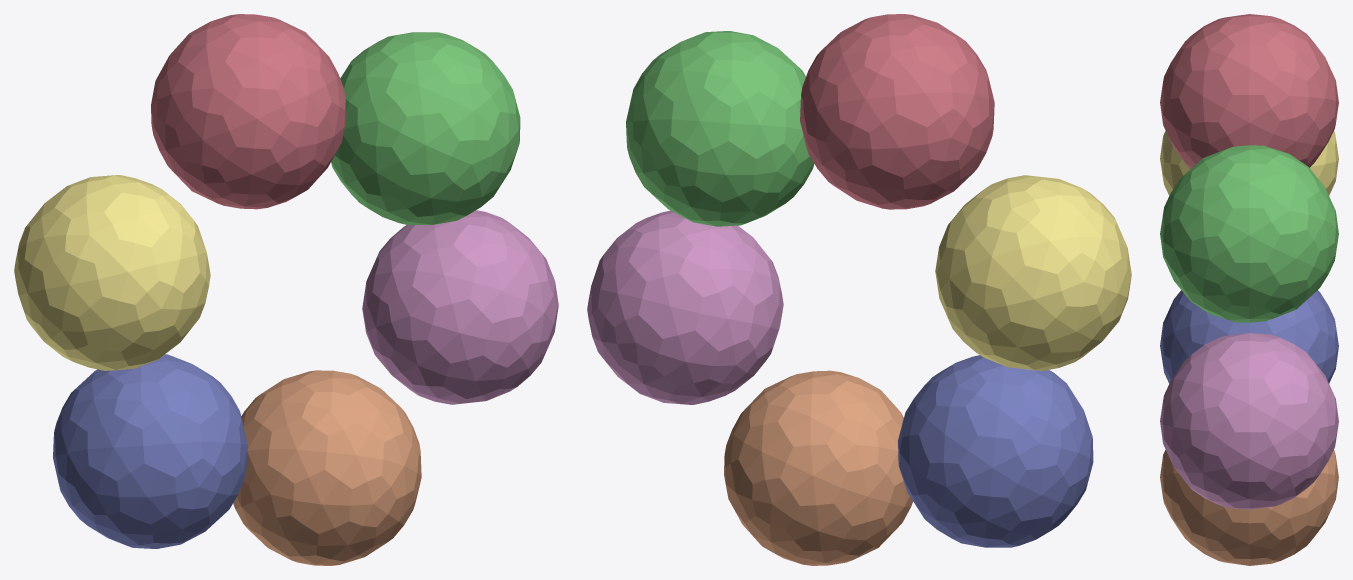
The model's file is ap-cell.glb.
3 renders of one model, left to right at view 1: azimuth 30°, elevation 25°; view 2: azimuth 150°, elevation 25°; view 3: azimuth 270°, elevation 25°, orthographic. The views are drawn at different scales.
Parts seen in each view (by area): view 1: isphere; view 2: isphere; view 3: isphere.
Part boxes in pixels (x1,y1,x2,y2): isphere: (14,14,558,565); isphere: (587,14,1131,565); isphere: (1160,14,1338,565).
Size of the model in its own units: 2.83 by 2.88 by 0.9303.
6 materials, 6 textured.
